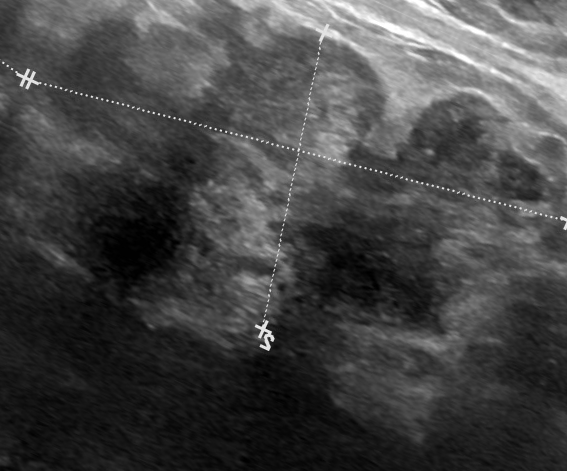Benign: (100, 50, 542, 316)
